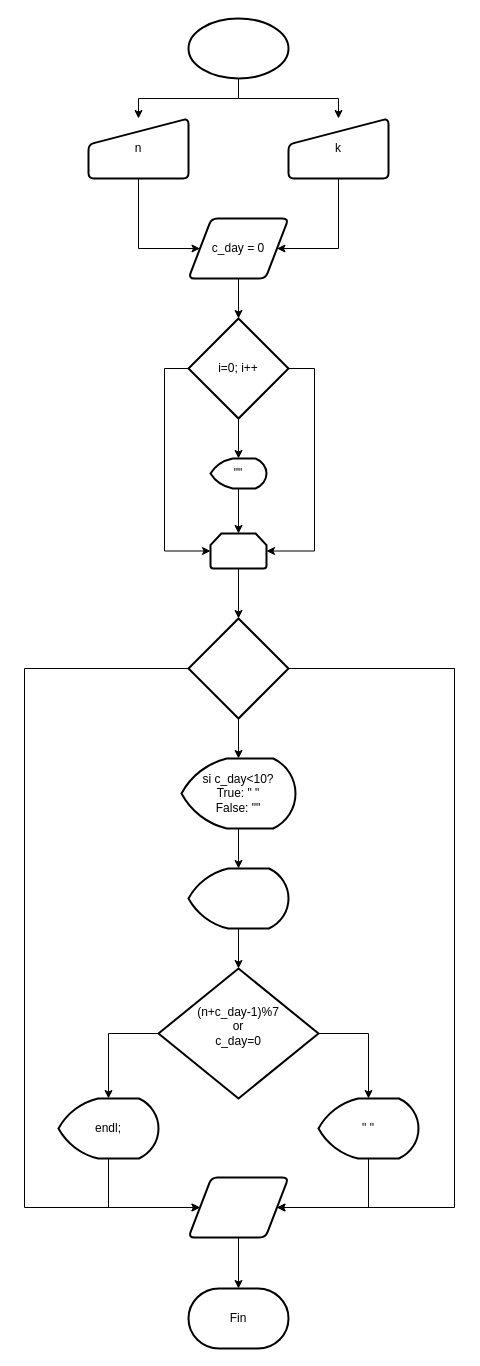
Some shapes in this 480 by 1366 pixel diagram are drawn without their labels. The shapes that lost their labels are listed below. From the top down, each one's centre as x and y in pixels, then its label:
At point (238, 48): "Inicio".
At point (238, 550): "i<n".
At point (238, 668): "c_day<=k".
At point (238, 898): "c_day".
At point (238, 1207): "c_day++".
